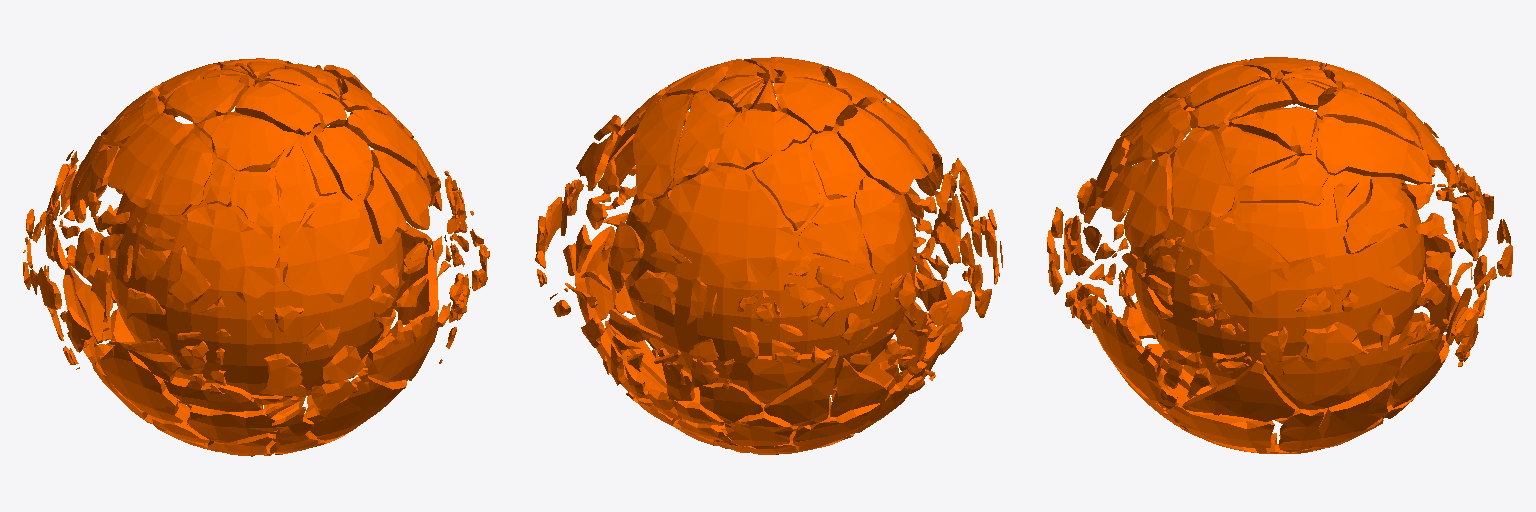
3 renders of one model, left to right at view 1: azimuth 30°, elevation 25°; view 2: azimuth 150°, elevation 25°; view 3: azimuth 270°, elevation 25°, orthographic.
Visible parts, largest first — view 1: Sphere, Sphere_cell.085_Mesh.179, Sphere_cell.016_Mesh.116, Sphere_cell.060_Mesh.160, Sphere_cell.073_Mesh.167, Sphere_cell.018_Mesh.118, Sphere_cell.059_Mesh.159, Sphere_cell.031_Mesh.131, Sphere_cell.045_Mesh.145, Sphere_cell.086_Mesh.180, Sphere_cell.093_Mesh.187, Sphere_cell.010_Mesh.110 (+28 smaller); view 2: Sphere, Sphere_cell.056_Mesh.156, Sphere_cell.035_Mesh.135, Sphere_cell.060_Mesh.160, Sphere_cell.052_Mesh.152, Sphere_cell.084_Mesh.178, Sphere_cell.021_Mesh.121, Sphere_cell.002_Mesh.102, Sphere_cell.086_Mesh.180, Sphere_cell.043_Mesh.143, Sphere_cell.048_Mesh.148, Sphere_cell.076_Mesh.170 (+28 smaller); view 3: Sphere, Sphere_cell.035_Mesh.135, Sphere_cell.063_Mesh.163, Sphere_cell.096_Mesh.190, Sphere_cell.012_Mesh.112, Sphere_cell.039_Mesh.139, Sphere_cell.095_Mesh.189, Sphere_cell.055_Mesh.155, Sphere_cell.008_Mesh.108, Sphere_cell.046_Mesh.146, Sphere_cell.030_cell.085_Mesh.473, Sphere_cell.045_Mesh.145 (+28 smaller).
Boxes of the visible parts, x1,y1,x2,y2 form: Sphere: [109, 111, 402, 404]; Sphere_cell.085_Mesh.179: [283, 199, 370, 302]; Sphere_cell.016_Mesh.116: [181, 207, 279, 301]; Sphere_cell.060_Mesh.160: [108, 113, 194, 207]; Sphere_cell.073_Mesh.167: [197, 115, 297, 171]; Sphere_cell.018_Mesh.118: [146, 133, 212, 215]; Sphere_cell.059_Mesh.159: [97, 346, 185, 423]; Sphere_cell.031_Mesh.131: [304, 376, 406, 440]; Sphere_cell.045_Mesh.145: [364, 308, 438, 380]; Sphere_cell.086_Mesh.180: [164, 74, 247, 125]; Sphere_cell.093_Mesh.187: [314, 126, 372, 200]; Sphere_cell.010_Mesh.110: [235, 83, 320, 135]; Sphere: [625, 109, 916, 402]; Sphere_cell.056_Mesh.156: [667, 171, 794, 287]; Sphere_cell.035_Mesh.135: [633, 93, 693, 201]; Sphere_cell.060_Mesh.160: [837, 106, 927, 194]; Sphere_cell.052_Mesh.152: [717, 109, 812, 169]; Sphere_cell.084_Mesh.178: [673, 91, 736, 185]; Sphere_cell.021_Mesh.121: [752, 145, 819, 230]; Sphere_cell.002_Mesh.102: [854, 176, 899, 273]; Sphere_cell.086_Mesh.180: [774, 77, 852, 133]; Sphere_cell.043_Mesh.143: [764, 350, 838, 425]; Sphere_cell.048_Mesh.148: [810, 132, 860, 199]; Sphere_cell.076_Mesh.170: [747, 349, 836, 403]; Sphere: [1130, 108, 1424, 402]; Sphere_cell.035_Mesh.135: [1316, 116, 1431, 184]; Sphere_cell.063_Mesh.163: [1172, 127, 1234, 231]; Sphere_cell.096_Mesh.190: [1195, 217, 1287, 317]; Sphere_cell.012_Mesh.112: [1233, 209, 1325, 278]; Sphere_cell.039_Mesh.139: [1261, 332, 1416, 409]; Sphere_cell.095_Mesh.189: [1182, 360, 1294, 421]; Sphere_cell.055_Mesh.155: [1124, 153, 1172, 246]; Sphere_cell.008_Mesh.108: [1238, 155, 1328, 205]; Sphere_cell.046_Mesh.146: [1308, 380, 1391, 449]; Sphere_cell.030_cell.085_Mesh.473: [1343, 177, 1409, 253]; Sphere_cell.045_Mesh.145: [1086, 295, 1169, 407].
Bounding box in the file's own units: 2.33 × 1.98 × 2.32.